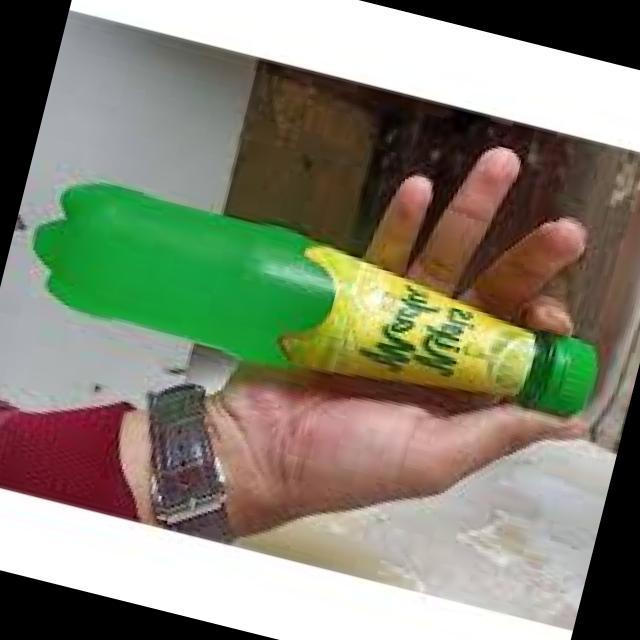good: (0, 145, 638, 479)
